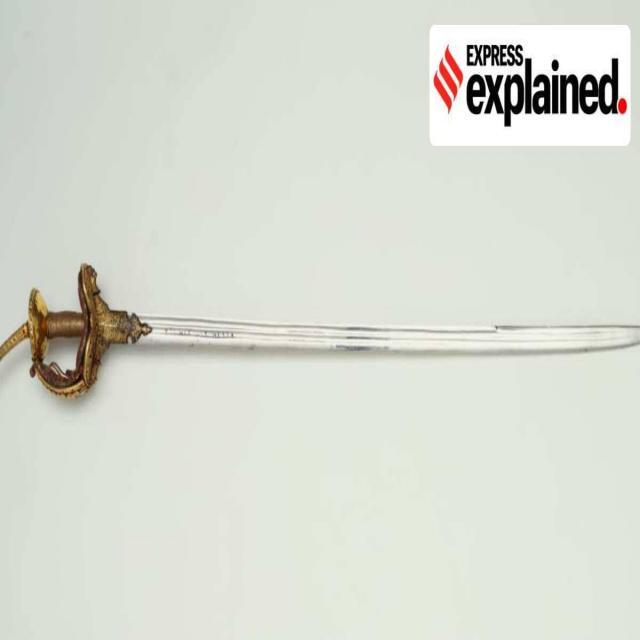cutlass: (8, 257, 640, 422)
